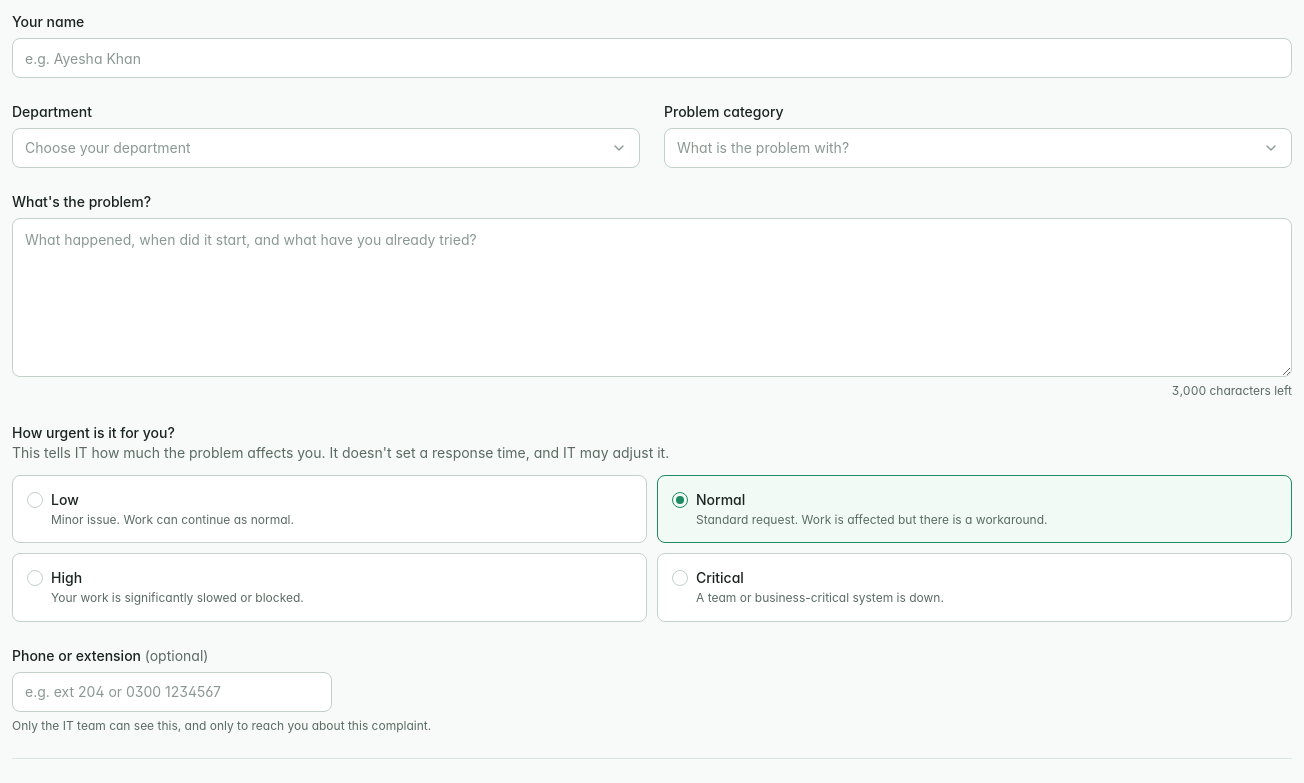
Test: ComplaintForm short description › asks for more detail when the description is too short
Type "broken" into the text box labelled "What's the problem?".
click(652, 297); type("broken")  # box [12,218,1292,376]
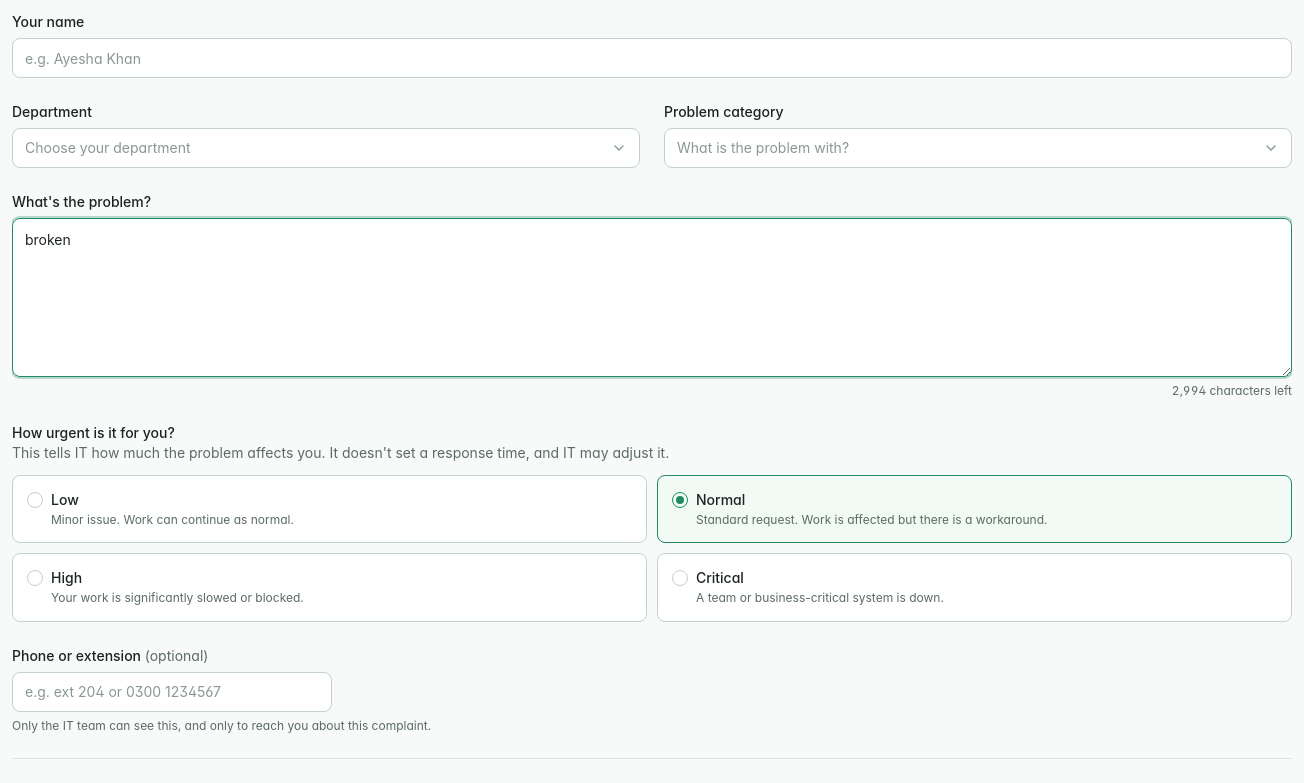
Press Tab
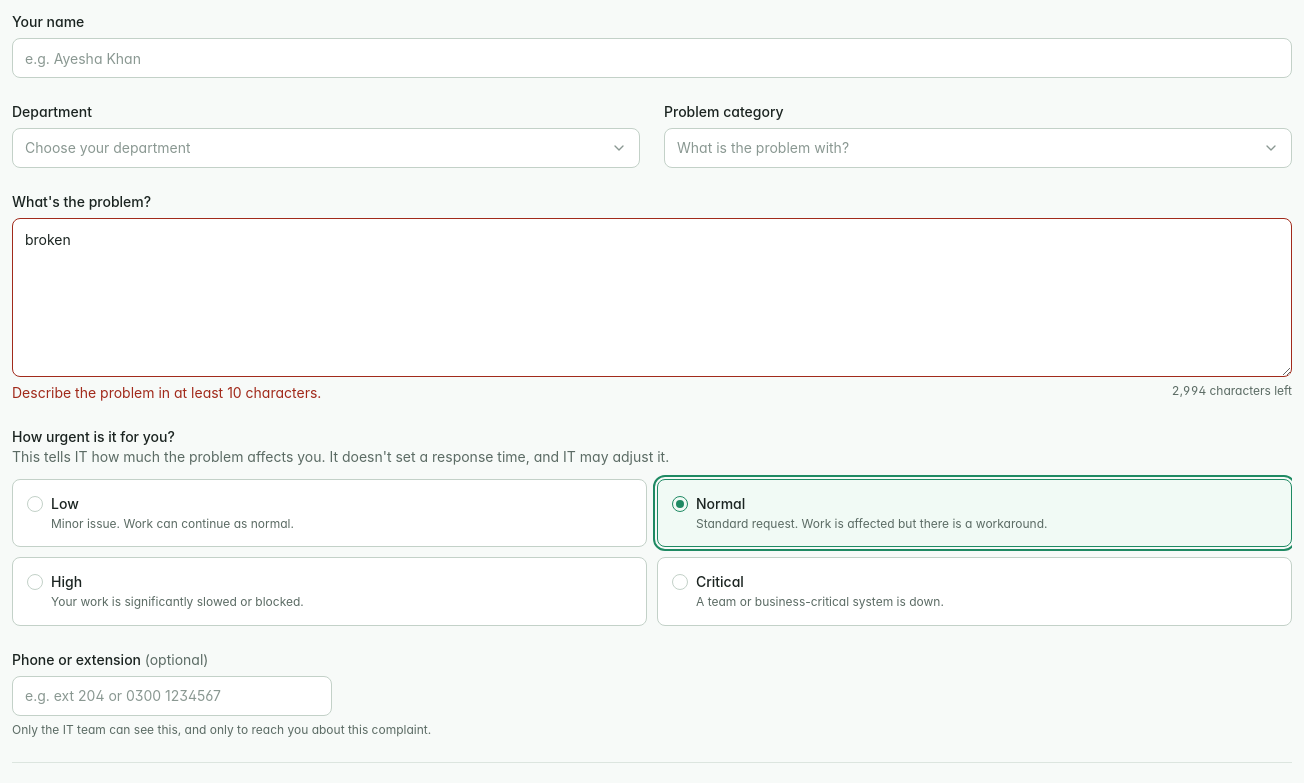
Check: the text "Describe the problem in at least 10 characters." is shown, box [12,382,321,402]
